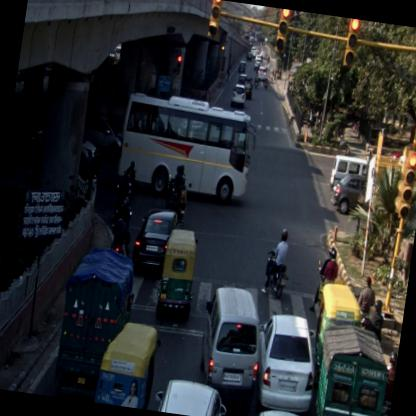bus: (114, 87, 262, 206)
car: (194, 284, 269, 394), (247, 310, 322, 414), (128, 205, 183, 276), (150, 376, 229, 415), (326, 172, 366, 217), (327, 154, 368, 194), (230, 82, 248, 107), (242, 80, 253, 98), (236, 58, 246, 74), (257, 65, 266, 80), (238, 76, 247, 84)
motorcycle: (308, 244, 339, 318), (263, 226, 294, 298), (375, 349, 398, 415), (162, 162, 190, 212), (262, 74, 268, 89), (254, 75, 258, 90)
truck: (52, 243, 138, 402), (309, 320, 393, 415)
